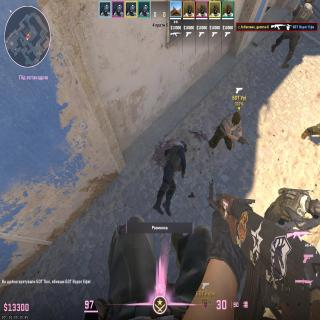CT-Body: (274, 0, 316, 62), (263, 186, 320, 230), (154, 139, 187, 208)
CT-Head: (309, 198, 320, 217), (180, 140, 187, 152), (309, 0, 314, 6)
T-Body: (210, 110, 241, 149)
T-Head: (232, 112, 241, 125)
